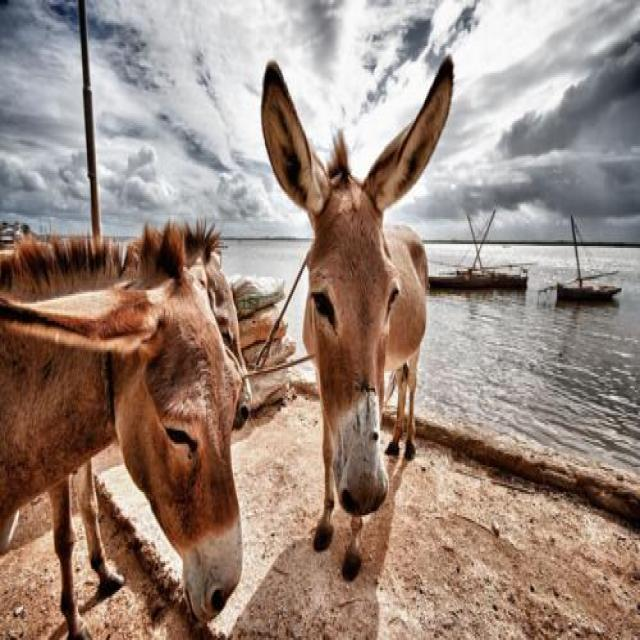Donkey: (2, 222, 252, 640), (260, 56, 455, 584), (0, 221, 244, 640)
